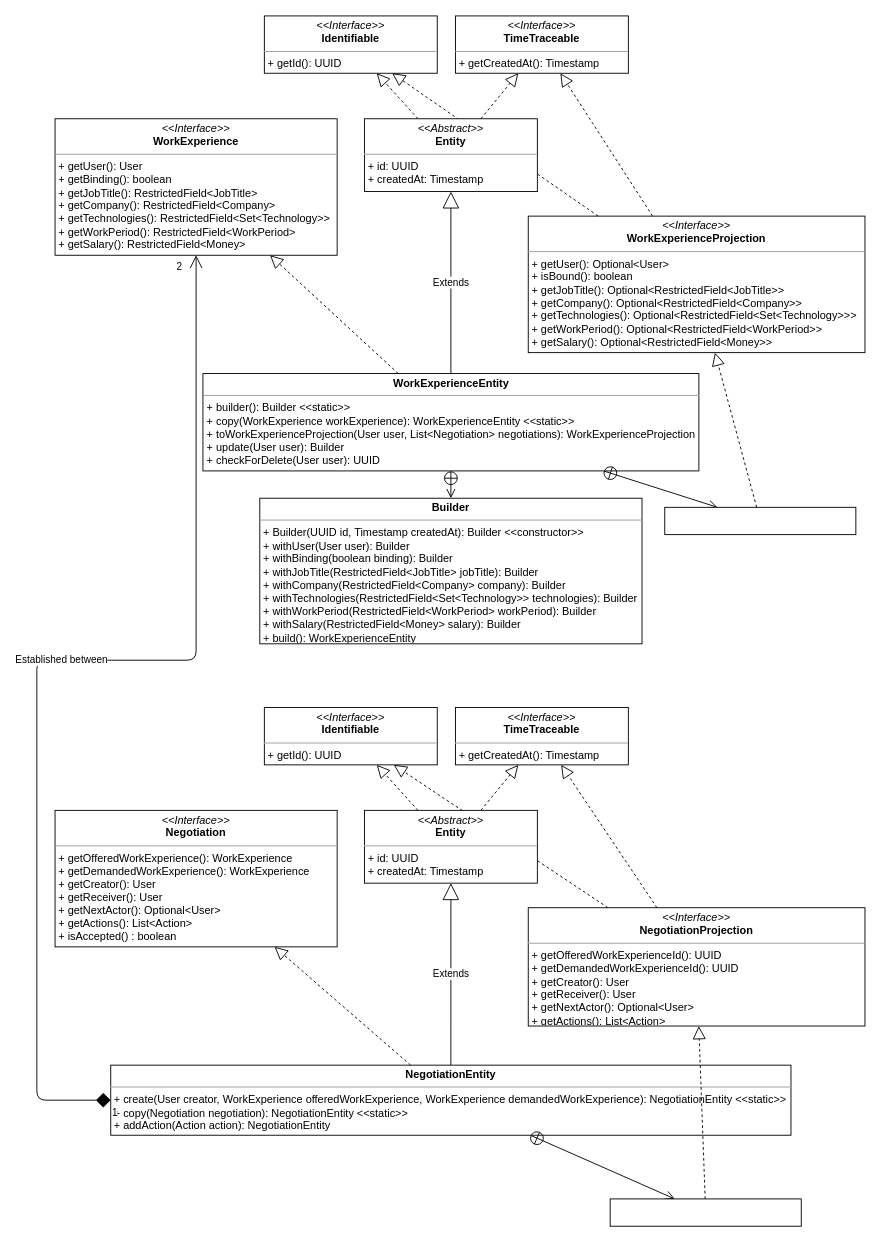
Some shapes in this 882 by 1242 pixel diagram are drawn without their labels. The shapes that lost their labels are listed below. From the top down, each one's centre as x and y in pixels, then its label:
the point at 760,520: WorkExperienceProjectionImpl
the point at 705,1212: NegotiationProjectionImpl
